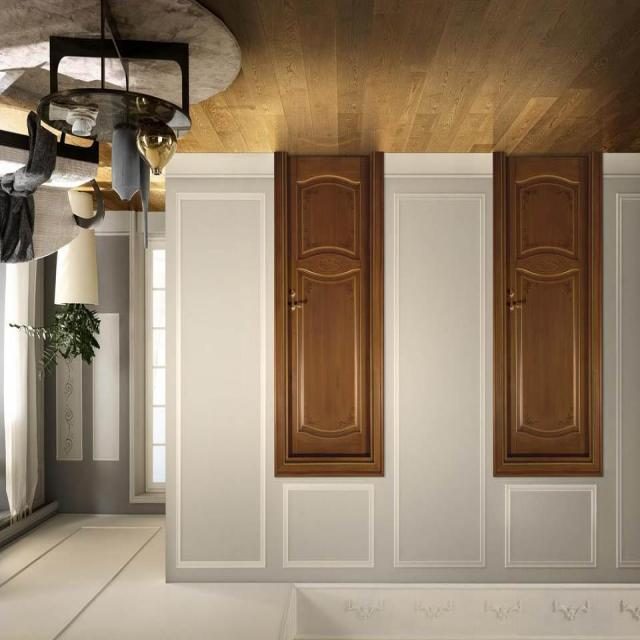close: (496, 148, 606, 472), (274, 156, 382, 474)
